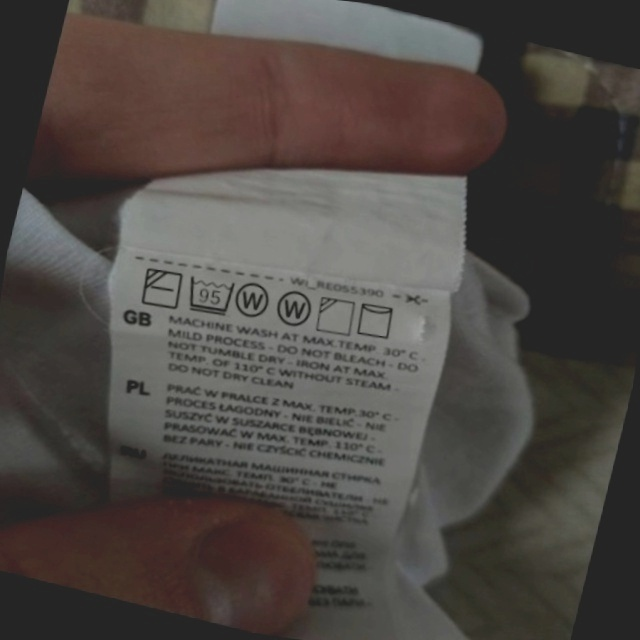95C: (180, 268, 241, 322)
dry_flat_in_shade: (135, 260, 188, 316)
line_dry: (350, 294, 402, 346)
shade_dry: (310, 290, 361, 342)
wet_clean: (270, 284, 319, 335), (230, 273, 278, 325)
